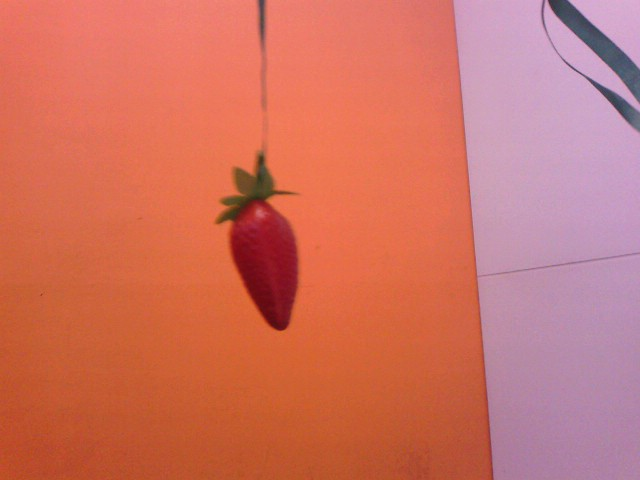strawberry: (223, 192, 311, 333)
